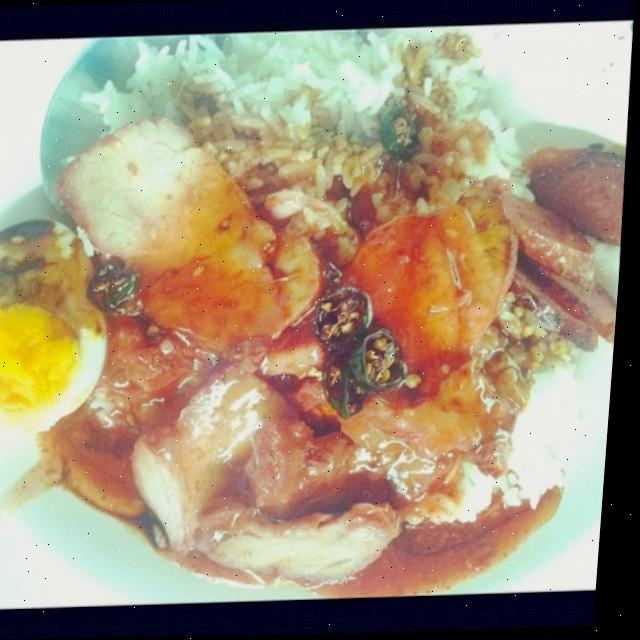猪肉菜式: (0, 20, 622, 586)
